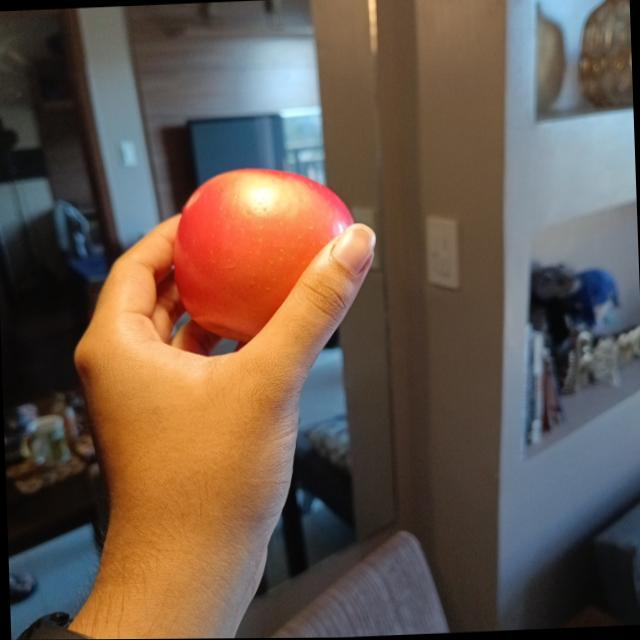apple: (172, 166, 356, 346)
